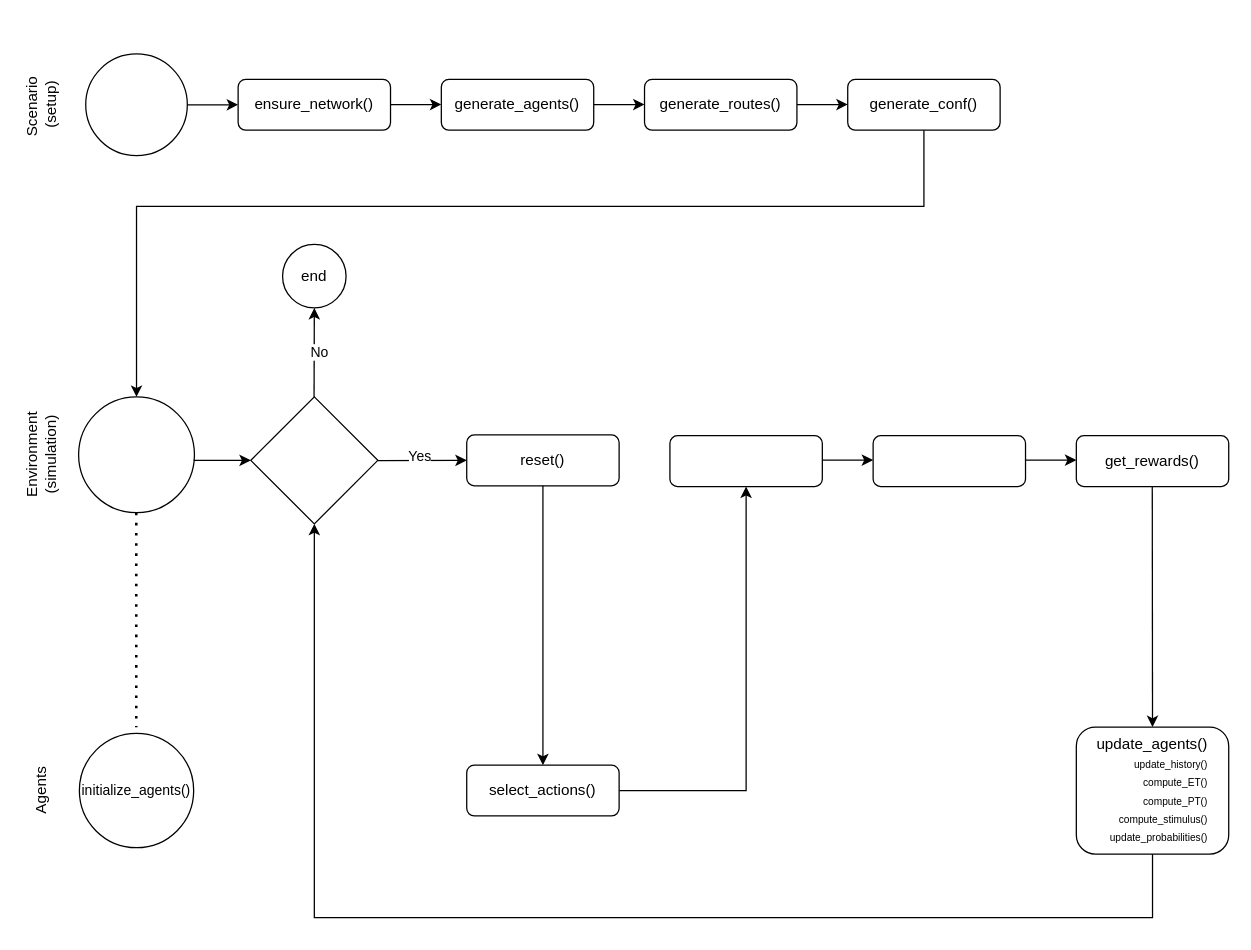
Image size: 1251x950. Some labels were removed from this diagram. Here are the shapes that lost their labels. From the top down, the centre of each, then its label:
At point 135,104: "start".
At point 135,454: "Initialize Environment (init)".
At point 314,460: "episode < N?".
At point 745,460: "insert_vehicles()".
At point 949,460: "run_episode()".
